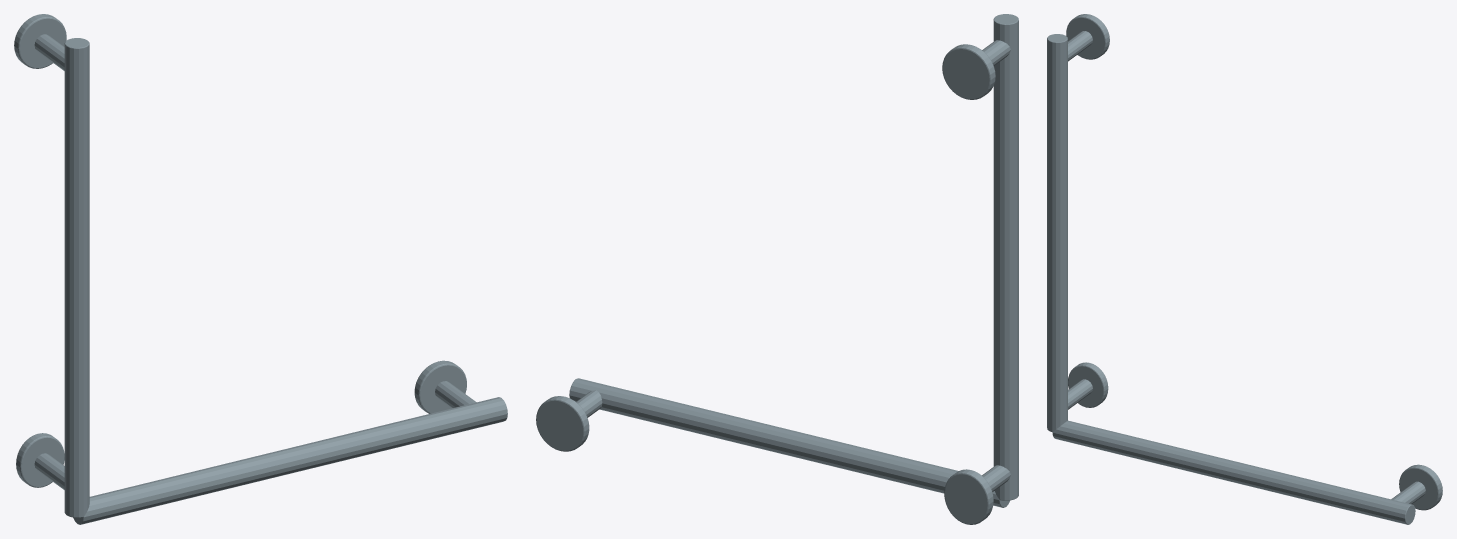
Rendered from edited.glb.
The picture shows the model from 3 angles, left to right: view 1: azimuth 30°, elevation 25°; view 2: azimuth 150°, elevation 25°; view 3: azimuth 330°, elevation 25°; orthographic projection. The views are drawn at different scales.
Parts seen in each view (by area): view 1: RAIL_Vertical, RAIL_Horizontal, MOUNT_Rosette.001, MOUNT_Rosette.002, MOUNT_Rosette, MOUNT_StandOff, MOUNT_StandOff.001, MOUNT_StandOff.002; view 2: RAIL_Vertical, RAIL_Horizontal, MOUNT_Rosette.001, MOUNT_Rosette.002, MOUNT_Rosette; view 3: RAIL_Vertical, RAIL_Horizontal, MOUNT_Rosette.001, MOUNT_Rosette.002, MOUNT_Rosette, MOUNT_StandOff, MOUNT_StandOff.001.
Part boxes in pixels (bbox=[...]): RAIL_Vertical: bbox=[64, 38, 89, 517]; RAIL_Horizontal: bbox=[73, 397, 507, 524]; MOUNT_Rosette.001: bbox=[14, 14, 66, 68]; MOUNT_Rosette.002: bbox=[414, 360, 466, 413]; MOUNT_Rosette: bbox=[16, 433, 64, 487]; MOUNT_StandOff: bbox=[34, 453, 64, 489]; MOUNT_StandOff.001: bbox=[34, 34, 64, 70]; MOUNT_StandOff.002: bbox=[435, 381, 476, 408]; RAIL_Vertical: bbox=[993, 14, 1018, 500]; RAIL_Horizontal: bbox=[569, 378, 1010, 507]; MOUNT_Rosette.001: bbox=[942, 44, 995, 99]; MOUNT_Rosette.002: bbox=[536, 396, 589, 451]; MOUNT_Rosette: bbox=[944, 469, 993, 524]; RAIL_Vertical: bbox=[1047, 34, 1067, 432]; RAIL_Horizontal: bbox=[1052, 420, 1415, 524]; MOUNT_Rosette.001: bbox=[1066, 14, 1109, 59]; MOUNT_Rosette.002: bbox=[1399, 464, 1442, 510]; MOUNT_Rosette: bbox=[1068, 362, 1108, 407]; MOUNT_StandOff: bbox=[1068, 379, 1092, 409]; MOUNT_StandOff.001: bbox=[1068, 31, 1092, 61].
Bounding box in the file's own units: 0.74 × 0.78 × 0.1305.
